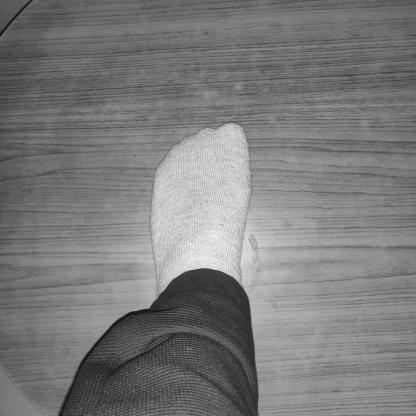ankle: (222, 274, 230, 281)
heel: (238, 300, 245, 306)
pinky: (161, 170, 166, 175)
right_foot: (150, 124, 252, 312)
toe: (231, 129, 237, 136)
